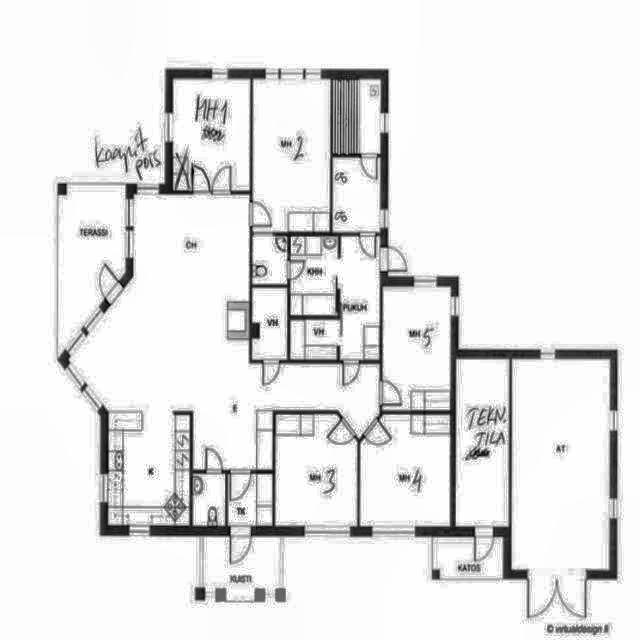room: (253, 80, 330, 232), (360, 415, 450, 526), (276, 415, 357, 526), (173, 79, 250, 190), (383, 287, 450, 410), (333, 80, 380, 154), (333, 158, 380, 232), (252, 288, 287, 360), (228, 474, 272, 525), (252, 236, 287, 285), (193, 475, 225, 525)
